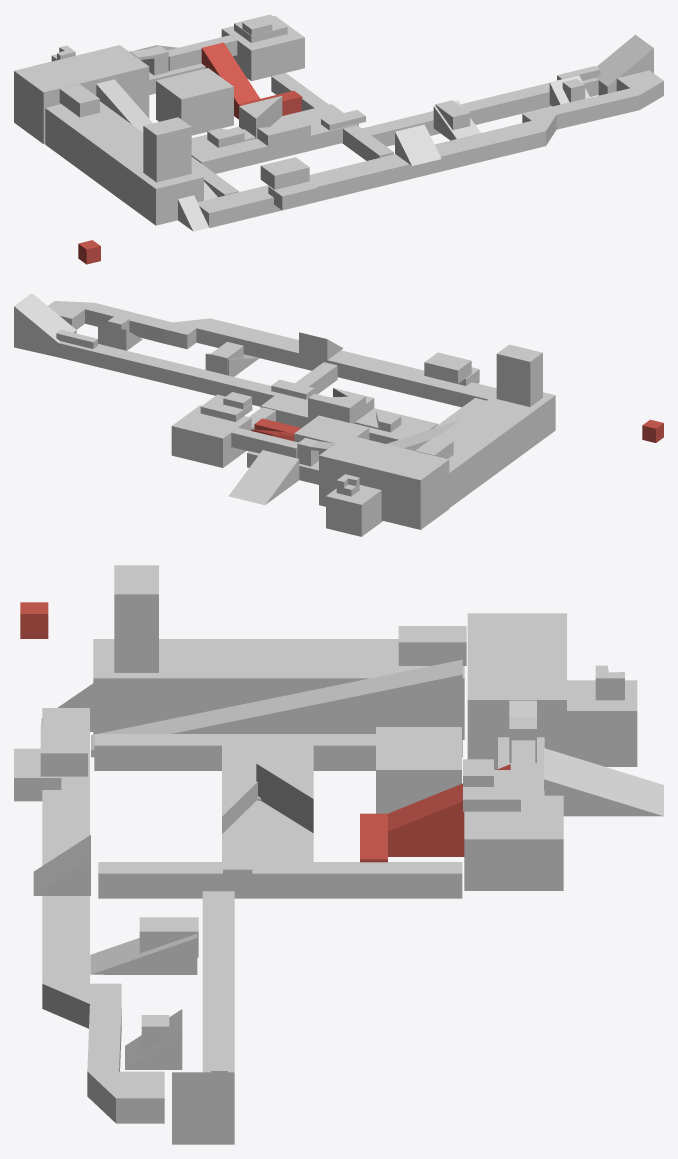
File: stickman_scene2.fbx
3 views of the same model, one above another, from view 1: azimuth 30°, elevation 25°; view 2: azimuth 150°, elevation 25°; view 3: azimuth 270°, elevation 25° (orthographic). The views are drawn at different scales.
Parts seen in each view (by area): view 1: Cube.001, Cube.005, Cube.009, Cube.011, Cube.018, Cube.031, Cube.025, Cube.008, Cube.034, Cube.021, Cube.006, Cube.002 (+20 smaller); view 2: Cube.001, Cube.009, Cube.011, Cube.005, Cube.025, Cube.008, Cube.028, Cube.023, Cube.018, Cube.031, Cube.014, Cube.026 (+19 smaller); view 3: Cube.005, Cube.001, Cube.006, Cube.009, Cube.011, Cube.021, Cube.025, Cube.018, Cube.007, Cube.031, Cube.034, Cube.028 (+20 smaller).
Part boxes in pixels (box(x1,y1,x2,y2)): Cube.001: box(197, 70, 663, 228); Cube.005: box(45, 101, 203, 225); Cube.009: box(14, 45, 149, 144); Cube.011: box(362, 34, 653, 146); Cube.018: box(191, 104, 358, 173); Cube.031: box(156, 68, 233, 135); Cube.025: box(221, 16, 304, 81); Cube.008: box(143, 117, 191, 182); Cube.034: box(201, 42, 302, 119); Cube.021: box(271, 73, 393, 160); Cube.006: box(96, 79, 217, 200); Cube.002: box(395, 124, 441, 165); Cube.001: box(48, 301, 496, 407); Cube.009: box(319, 434, 449, 529); Cube.011: box(14, 293, 277, 406); Cube.005: box(437, 392, 555, 507); Cube.025: box(171, 405, 251, 467); Cube.008: box(496, 344, 542, 406); Cube.028: box(228, 450, 299, 504); Cube.023: box(326, 485, 382, 536); Cube.018: box(260, 393, 437, 443); Cube.031: box(294, 415, 369, 454); Cube.014: box(308, 396, 365, 423); Cube.026: box(231, 428, 298, 458); Cube.005: box(93, 639, 464, 739); Cube.001: box(42, 708, 164, 1123); Cube.006: box(91, 659, 462, 757); Cube.009: box(467, 613, 566, 769); Cube.011: box(172, 891, 234, 1144); Cube.021: box(98, 862, 462, 898); Cube.025: box(464, 795, 563, 890); Cube.018: box(222, 745, 313, 898); Cube.007: box(94, 734, 375, 770); Cube.031: box(376, 727, 461, 813); Cube.034: box(360, 764, 510, 862); Cube.028: box(544, 748, 663, 816).
Size of the model in its own units: 85.52 by 12.53 by 46.82.
